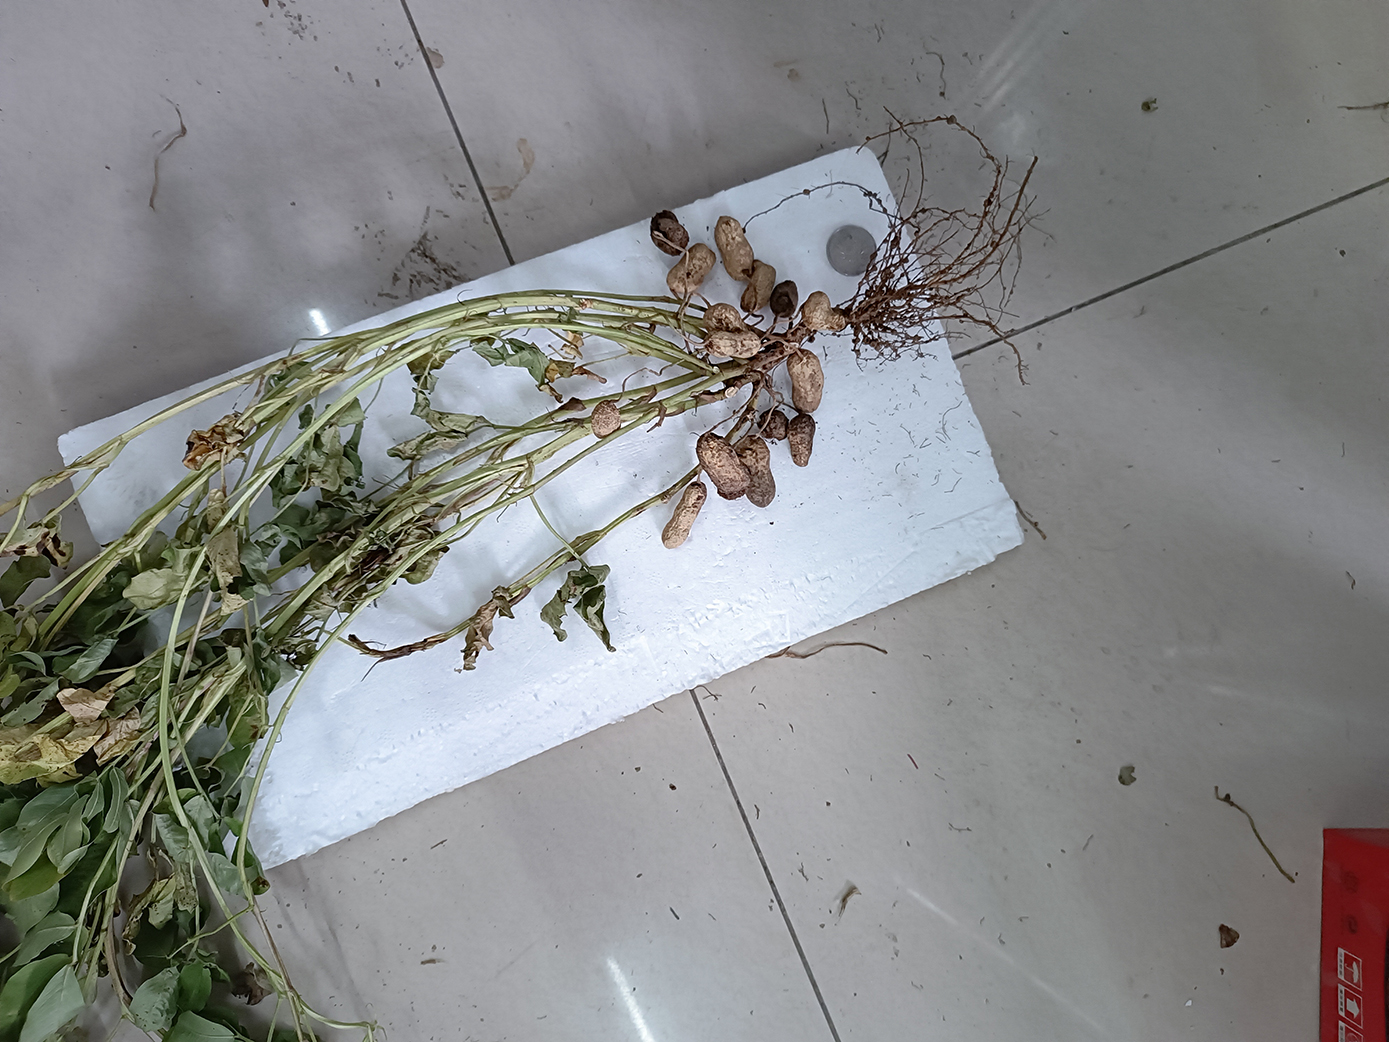h: (663, 483, 705, 552), (665, 244, 711, 302), (786, 349, 824, 413), (714, 218, 753, 278), (742, 260, 776, 314), (801, 291, 846, 332), (706, 328, 757, 358), (591, 400, 622, 439), (704, 303, 737, 332)
l: (696, 432, 748, 499), (738, 437, 772, 506), (648, 210, 691, 256), (787, 412, 809, 466), (768, 278, 795, 320), (755, 408, 783, 440)
